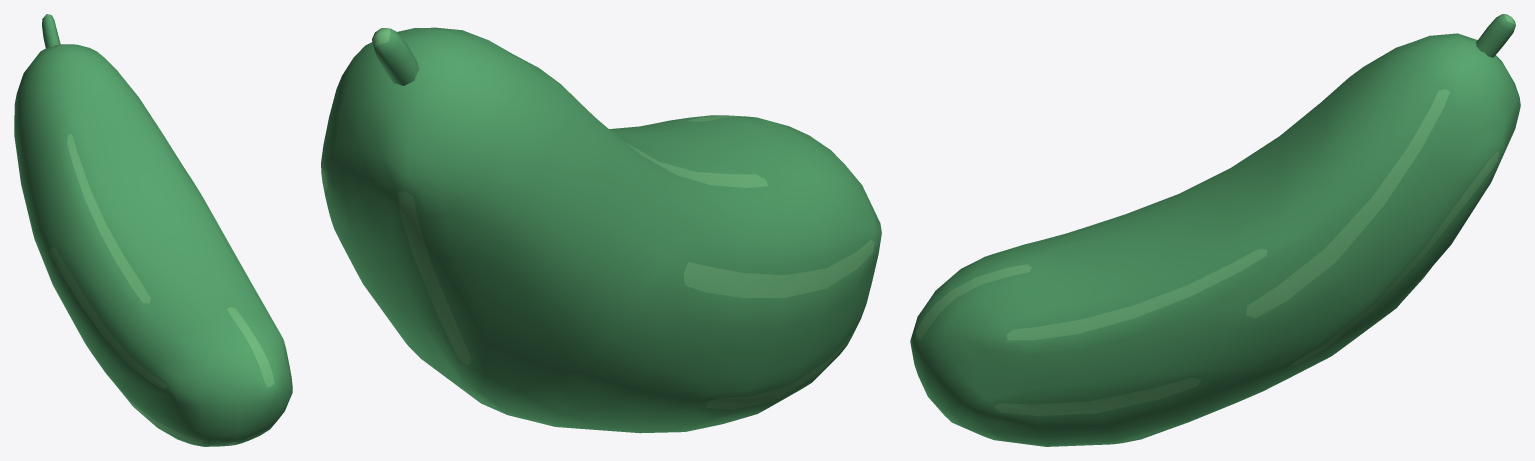
The model's file is Cucumber_01.dae.
3 renders of one model, left to right at view 1: azimuth 30°, elevation 25°; view 2: azimuth 150°, elevation 25°; view 3: azimuth 270°, elevation 25°, orthographic. The views are drawn at different scales.
Visible parts, largest first — view 1: Cucumber_01_LOD0; view 2: Cucumber_01_LOD0; view 3: Cucumber_01_LOD0.
Part boxes in pixels (left/top/right/bottom): Cucumber_01_LOD0: left=14, top=14, right=292, bottom=446; Cucumber_01_LOD0: left=321, top=27, right=881, bottom=433; Cucumber_01_LOD0: left=910, top=14, right=1520, bottom=446.
Size of what is drawn, in the model's own units: 2.12 by 5.3 by 4.07.
